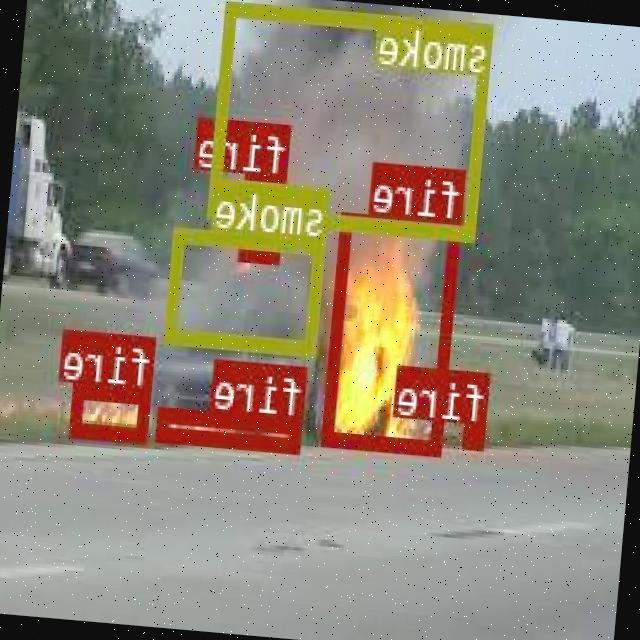fire: (324, 209, 462, 452), (158, 404, 304, 448), (73, 380, 154, 441), (242, 170, 290, 260), (464, 421, 486, 446)
smoke: (209, 0, 495, 237), (167, 226, 327, 352)
